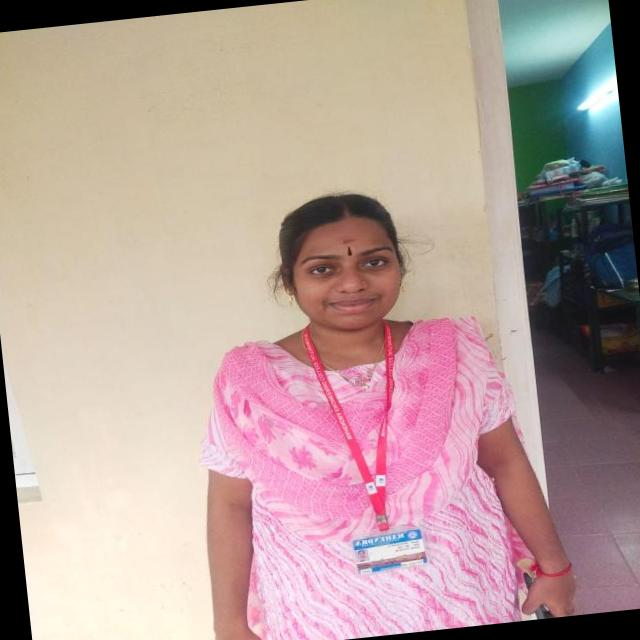id_card: (321, 314, 423, 576)
